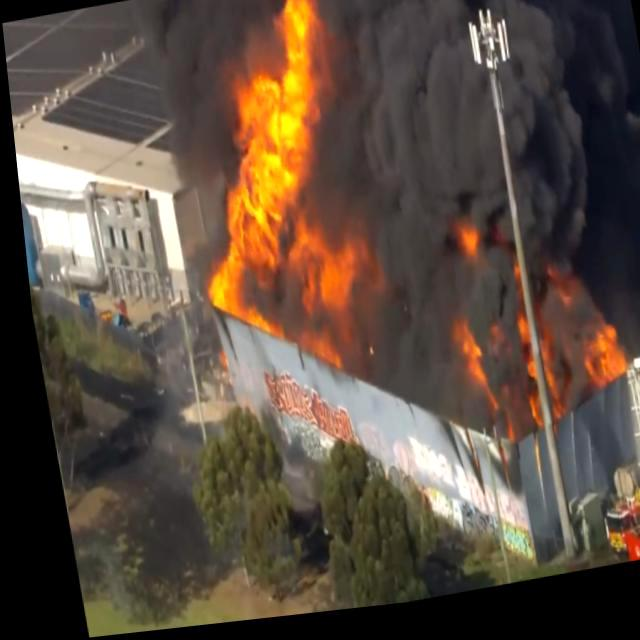fire: (154, 1, 378, 376), (435, 322, 501, 438), (504, 305, 560, 439), (583, 478, 640, 577), (565, 329, 619, 403), (440, 205, 484, 282)
